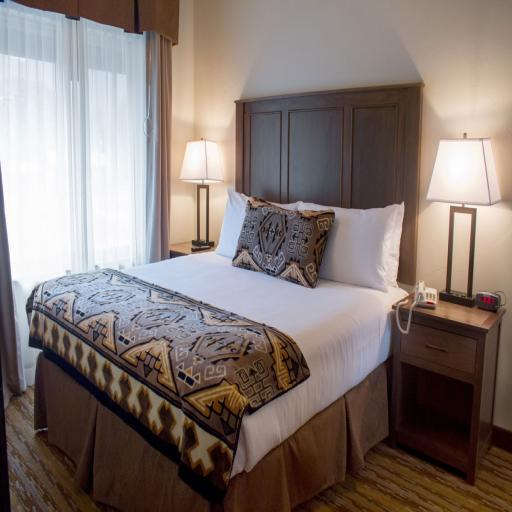bed: (26, 82, 425, 512)
